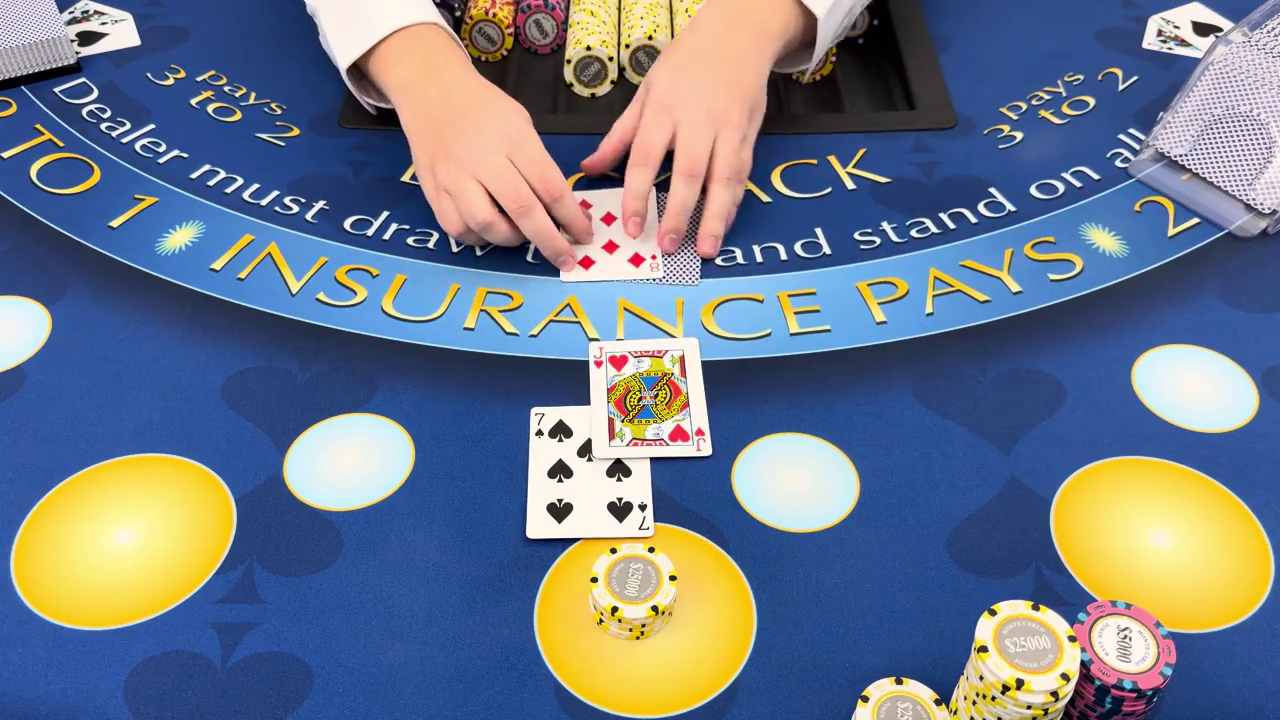7S: (635, 498, 654, 533), (531, 406, 546, 442)
8D: (645, 253, 662, 277)
JH: (689, 421, 709, 454), (590, 342, 605, 371)
